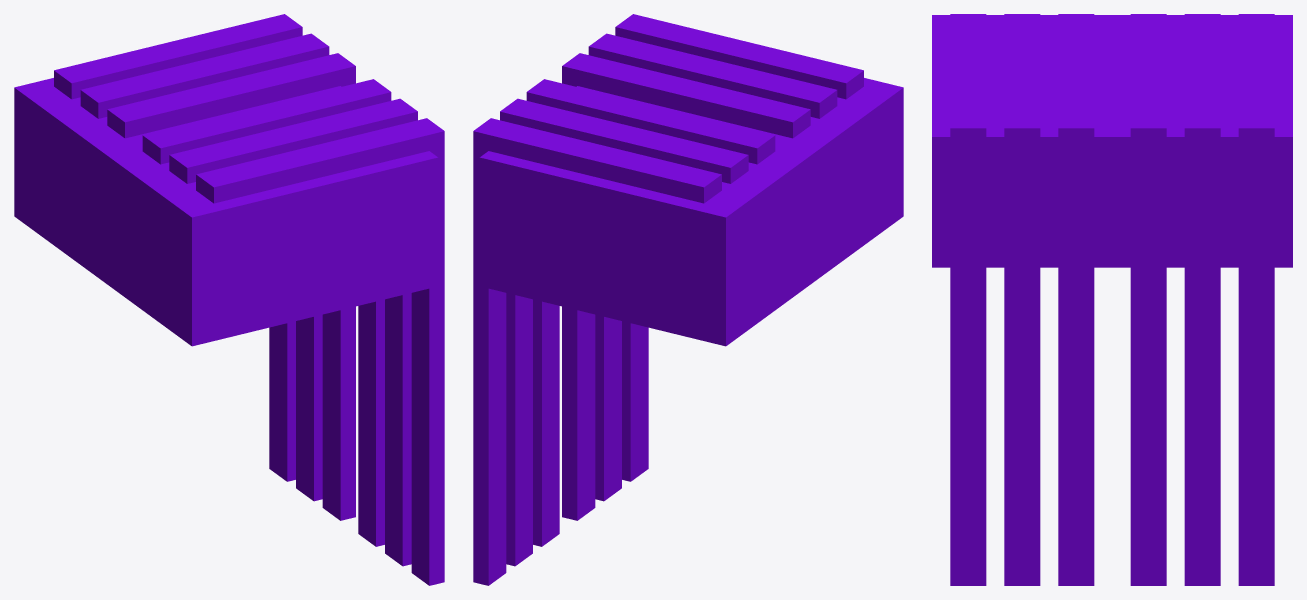
File: hair_cornrows.obj
3 views of the same model, side by side, from view 1: azimuth 30°, elevation 25°; view 2: azimuth 150°, elevation 25°; view 3: azimuth 270°, elevation 25° (orthographic).
Visible parts, largest first — view 1: Box; view 2: Box; view 3: Box.
Part boxes in pixels (x1,y1,x2,y2): Box: (14,14,444,585); Box: (473,14,903,585); Box: (932,14,1292,585).
Size of the model in its own units: 17 by 28 by 20.
